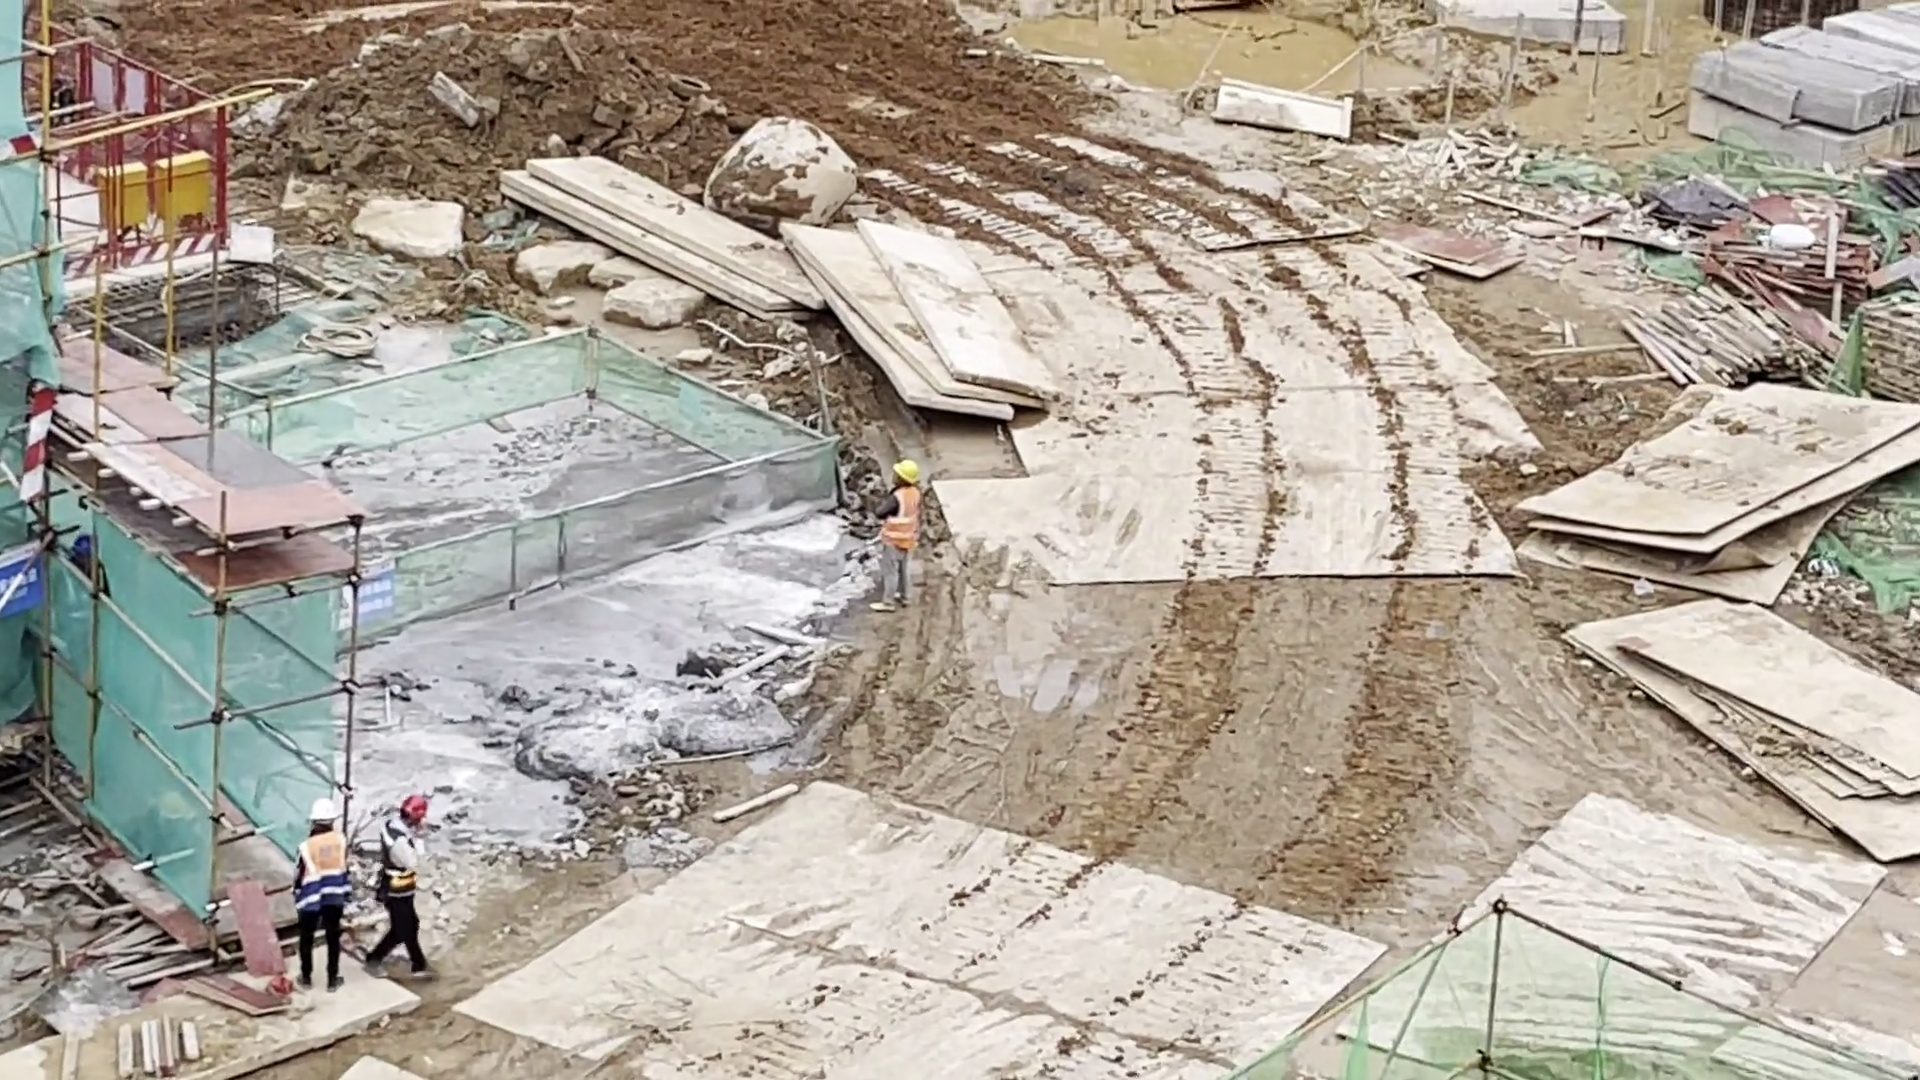ebox: (97, 152, 226, 254)
helmet: (395, 794, 432, 823), (307, 794, 336, 823), (889, 457, 918, 482)
person: (293, 797, 351, 994), (374, 787, 433, 979), (874, 458, 926, 608)
vest: (301, 834, 349, 909), (374, 819, 415, 898), (885, 486, 921, 552)
